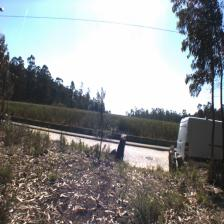trunktrack_idkeyframe: (220, 125, 224, 162), (211, 124, 215, 161)
